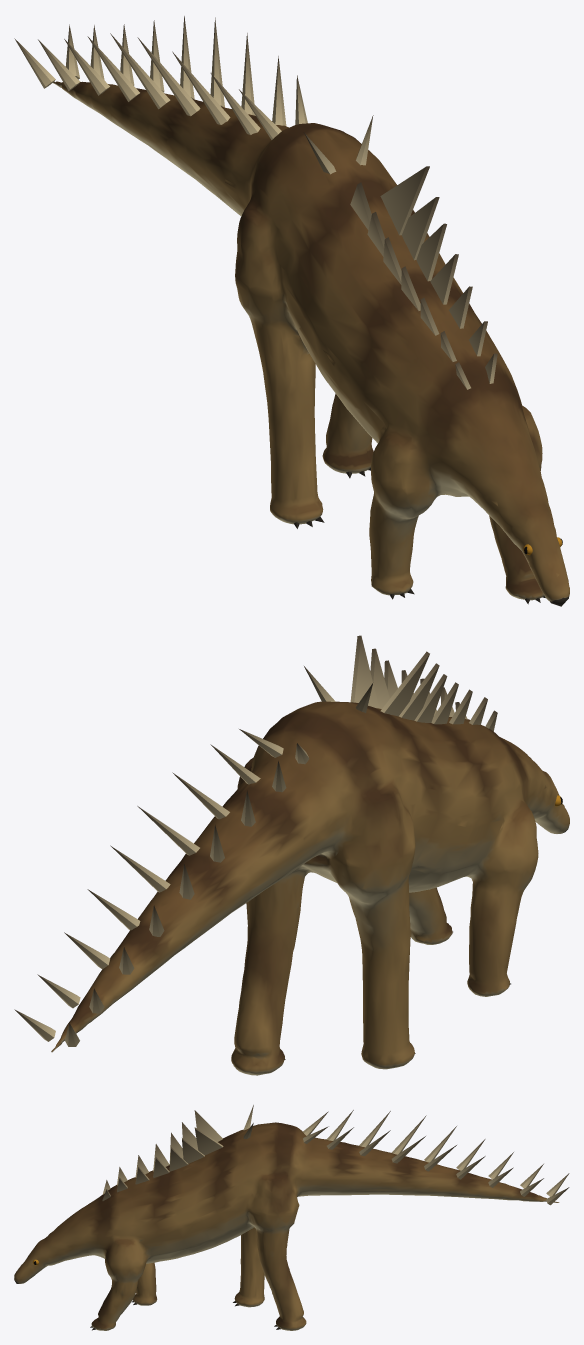
Rendered from Kentrosaurus.fbx.
3 renders of one model, top to bottom at view 1: azimuth 30°, elevation 25°; view 2: azimuth 150°, elevation 25°; view 3: azimuth 270°, elevation 25°, orthographic. The views are drawn at different scales.
Visible parts, largest first — view 1: Kentrosaurus; view 2: Kentrosaurus; view 3: Kentrosaurus.
Boxes of the visible parts, <box> form: Kentrosaurus: <box>14,16,569,606</box>; Kentrosaurus: <box>14,635,569,1075</box>; Kentrosaurus: <box>14,1105,569,1330</box>.
Bounding box in the file's own units: 0.5937 × 1.31 × 3.23.
